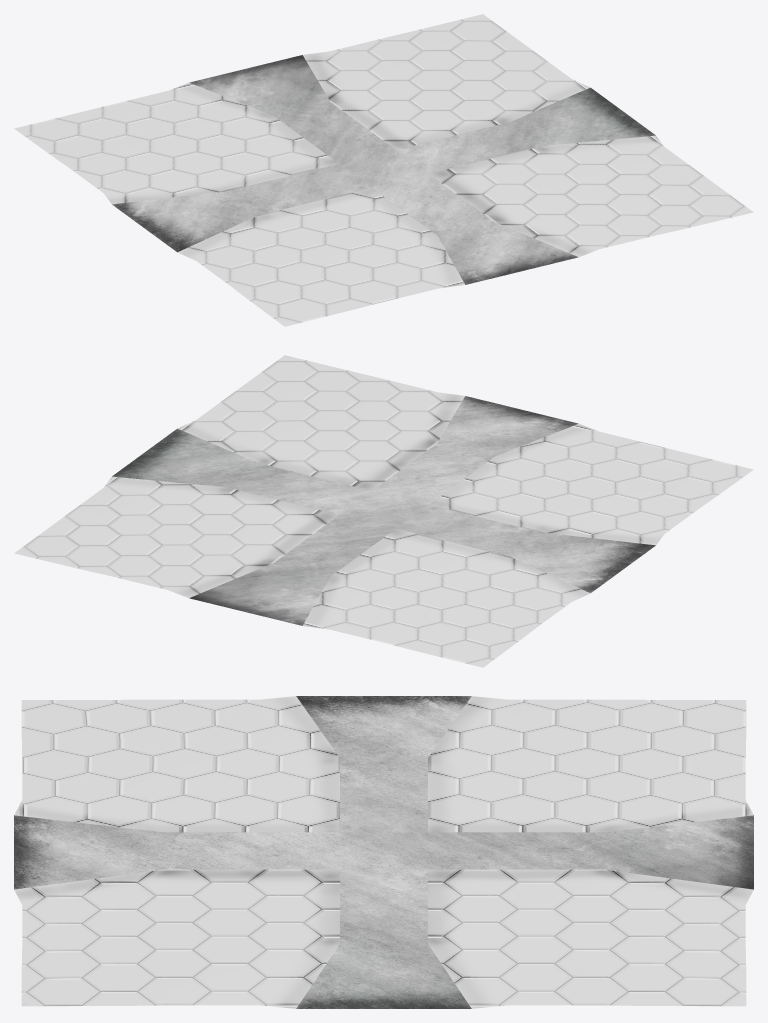
File: Ceiling.fbx
The picture shows the model from 3 angles, top to bottom: view 1: azimuth 30°, elevation 25°; view 2: azimuth 150°, elevation 25°; view 3: azimuth 270°, elevation 25°; orthographic projection. The views are drawn at different scales.
Parts seen in each view (by area): view 1: Ceiling001; view 2: Ceiling001; view 3: Ceiling001.
Boxes of the visible parts, <box> form: Ceiling001: <box>14,14,753,326</box>; Ceiling001: <box>14,355,753,667</box>; Ceiling001: <box>14,696,753,1008</box>.
Bounding box in the file's own units: 253 × 0.8454 × 253.
Materials: 1 (1 with a texture image).
